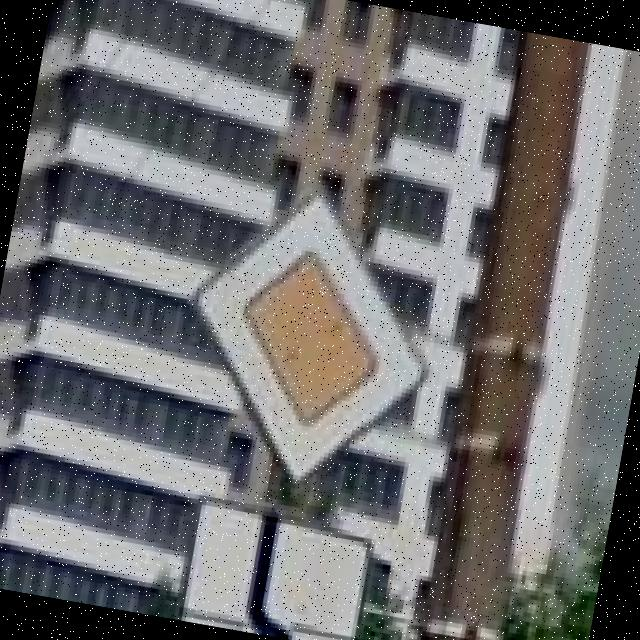Droga z pierwszenstwem: (162, 170, 456, 508)
